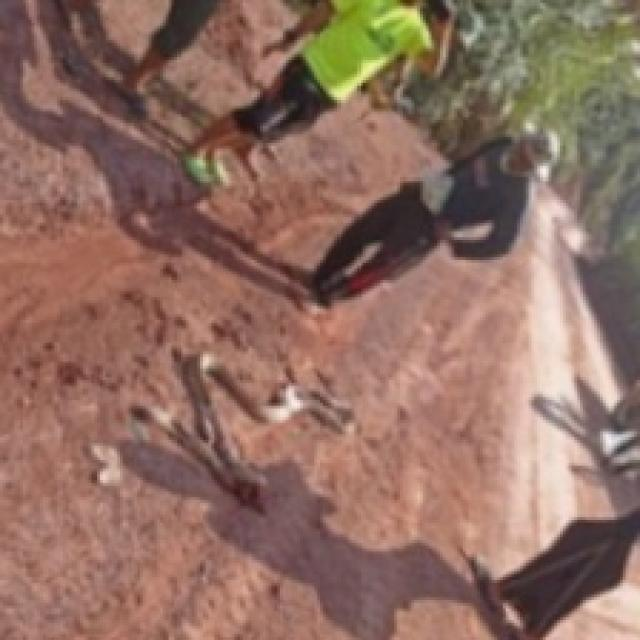king cobra: (471, 377, 637, 637)
